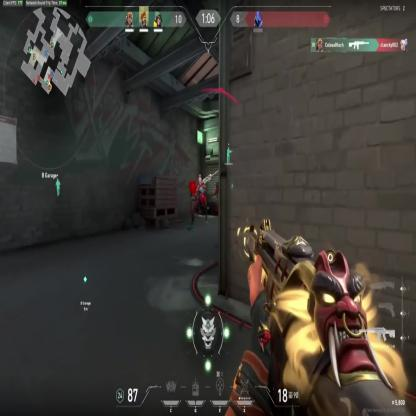enemy: (214, 170, 228, 251)
